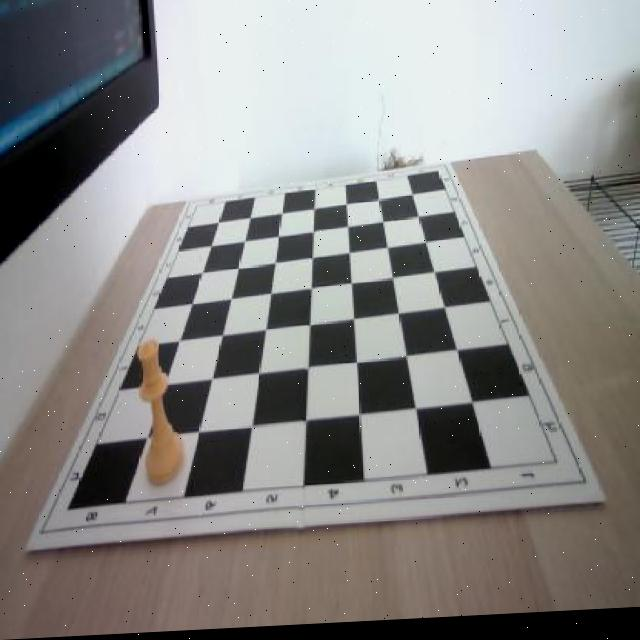white-pawn: (137, 339, 185, 488)
